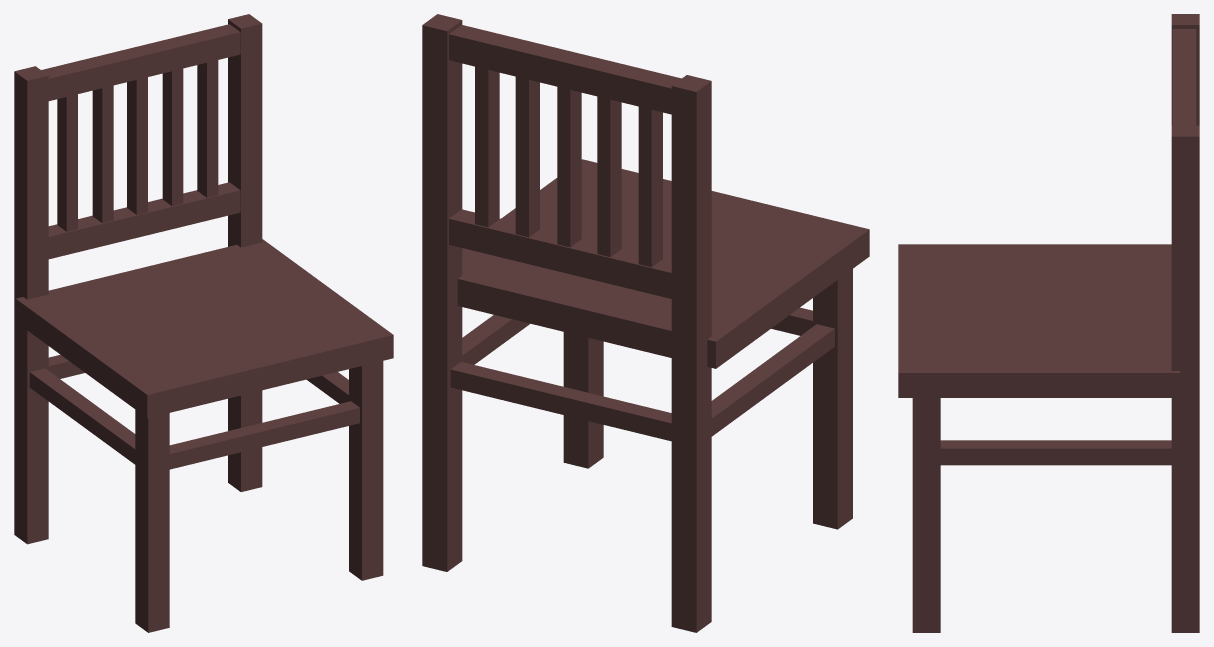
The model's file is chair1.obj.
The picture shows the model from 3 angles, left to right: view 1: azimuth 30°, elevation 25°; view 2: azimuth 150°, elevation 25°; view 3: azimuth 270°, elevation 25°; orthographic projection. The views are drawn at different scales.
Visible parts, largest first — view 1: chair1; view 2: chair1; view 3: chair1.
Part boxes in pixels (x1,y1,x2,y2): chair1: [14, 14, 393, 632]; chair1: [422, 14, 869, 632]; chair1: [898, 14, 1199, 632].
Bounding box in the file's own units: 0.5412 × 0.9733 × 0.536.
